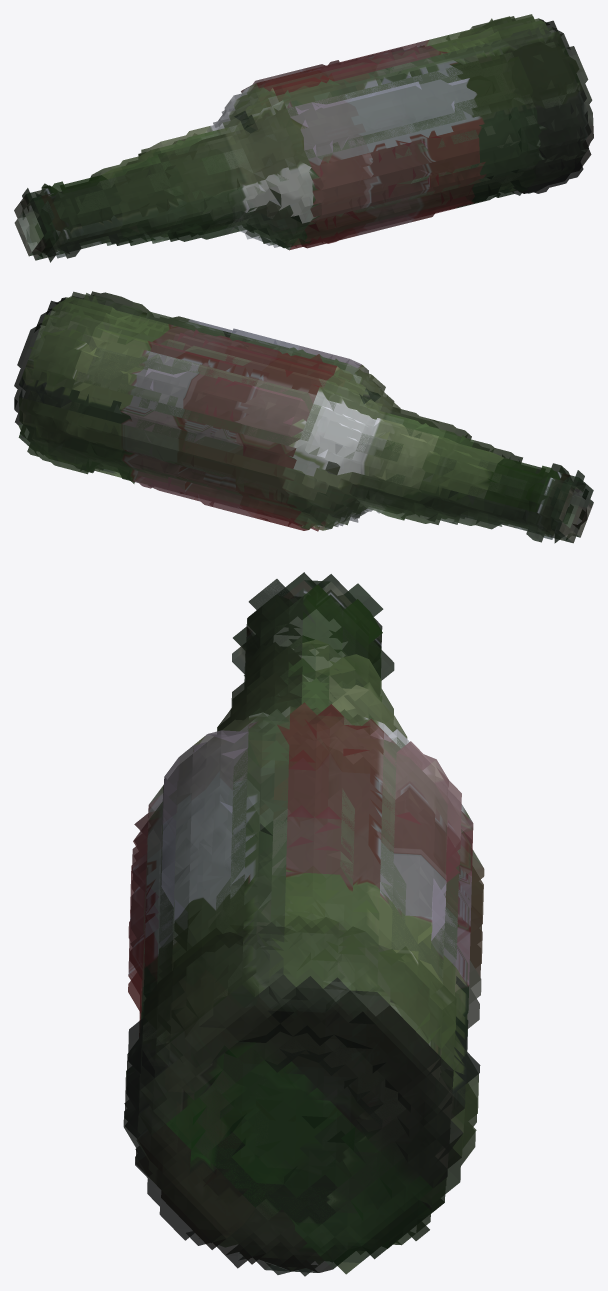
The model's file is simplified_bottle.glb.
The picture shows the model from 3 angles, top to bottom: view 1: azimuth 30°, elevation 25°; view 2: azimuth 150°, elevation 25°; view 3: azimuth 270°, elevation 25°; orthographic projection. The views are drawn at different scales.
Visible parts, largest first — view 1: Mesh_0; view 2: Mesh_0; view 3: Mesh_0.
Boxes of the visible parts, box(x1,y1,x2,y2) form: Mesh_0: box(14, 14, 593, 262); Mesh_0: box(14, 291, 593, 543); Mesh_0: box(123, 572, 484, 1276).
Bounding box in the file's own units: 1.61 × 0.4821 × 0.4788.
Materials: 1 (1 with a texture image).
